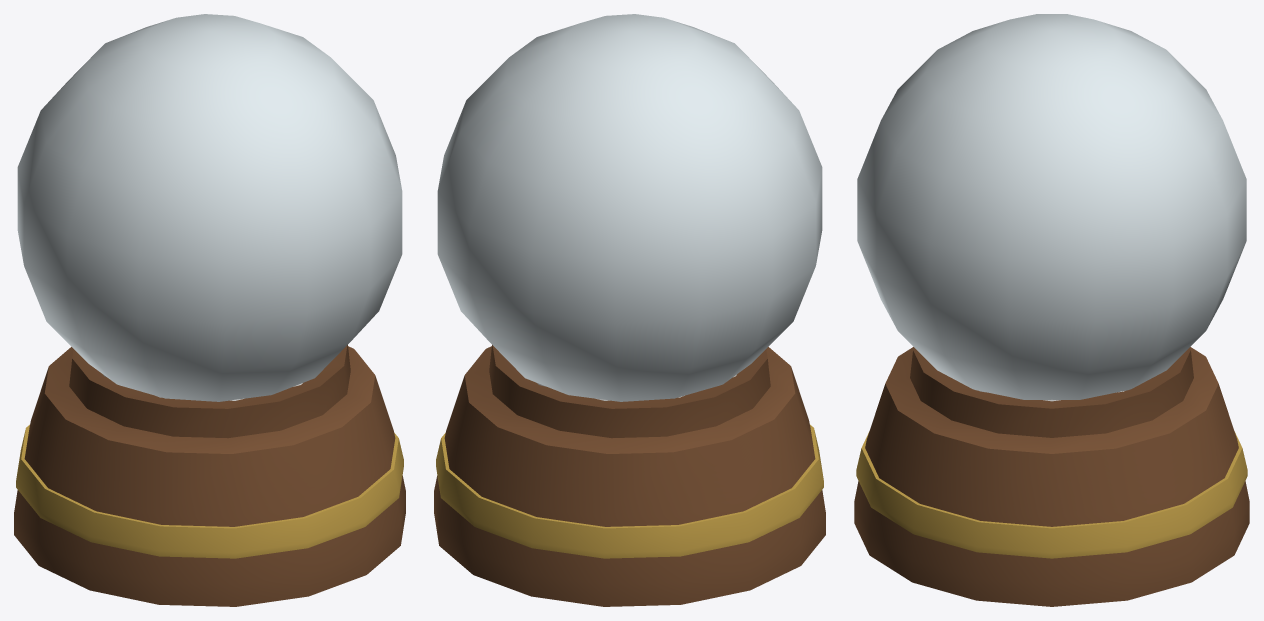
File: snowGlobe.glb
3 views of the same model, side by side, from view 1: azimuth 30°, elevation 25°; view 2: azimuth 150°, elevation 25°; view 3: azimuth 270°, elevation 25° (orthographic).
Parts seen in each view (by area): view 1: snowGlobe; view 2: snowGlobe; view 3: snowGlobe.
Boxes of the visible parts, left/top/right/bottom form: snowGlobe: left=14, top=14, right=405, bottom=606; snowGlobe: left=434, top=14, right=825, bottom=606; snowGlobe: left=854, top=14, right=1249, bottom=606.
Bounding box in the file's own units: 0.128 × 0.176 × 0.128.
